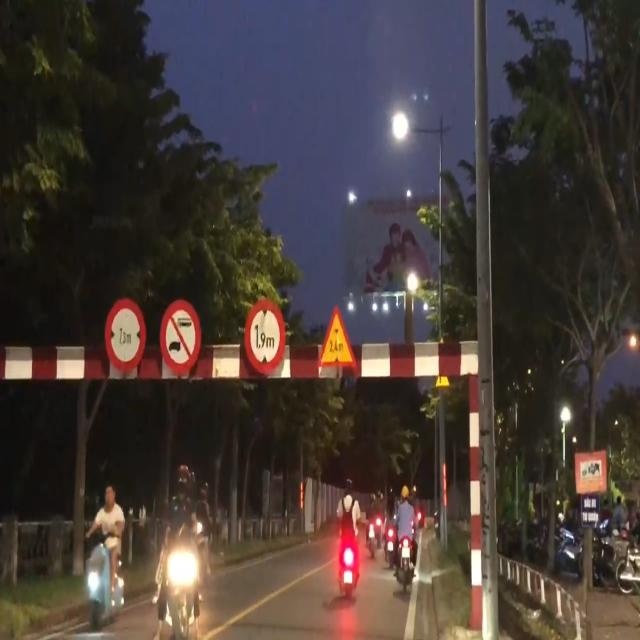Bien bao cam xe oto khach va xe oto tai: (156, 295, 209, 386)
Bien bao chieu cao tinh khong thuc te: (314, 296, 359, 376)
Bien bao han che chieu cao: (242, 295, 285, 380)
